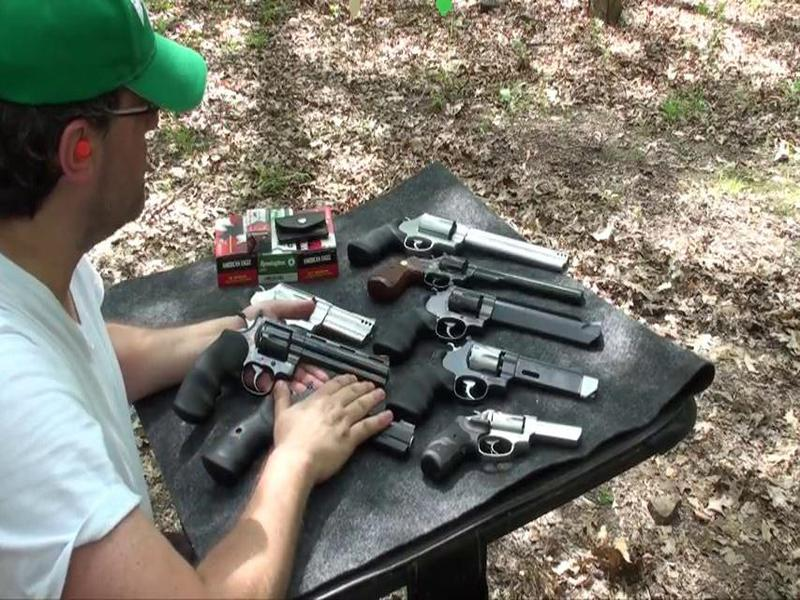Revolver: (192, 294, 429, 445)
